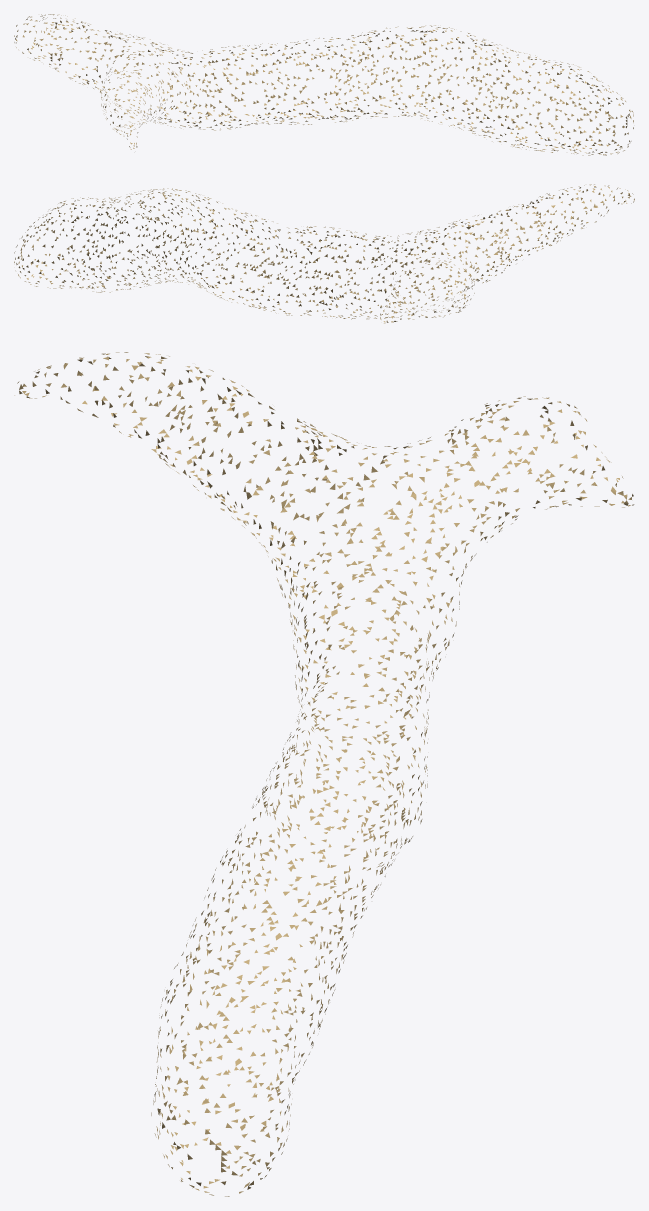
Rendered from morph_007.glb.
3 renders of one model, top to bottom at view 1: azimuth 30°, elevation 25°; view 2: azimuth 150°, elevation 25°; view 3: azimuth 270°, elevation 25°, orthographic. The views are drawn at different scales.
Bounding box in the file's own units: 130 × 45.14 × 68.17.
